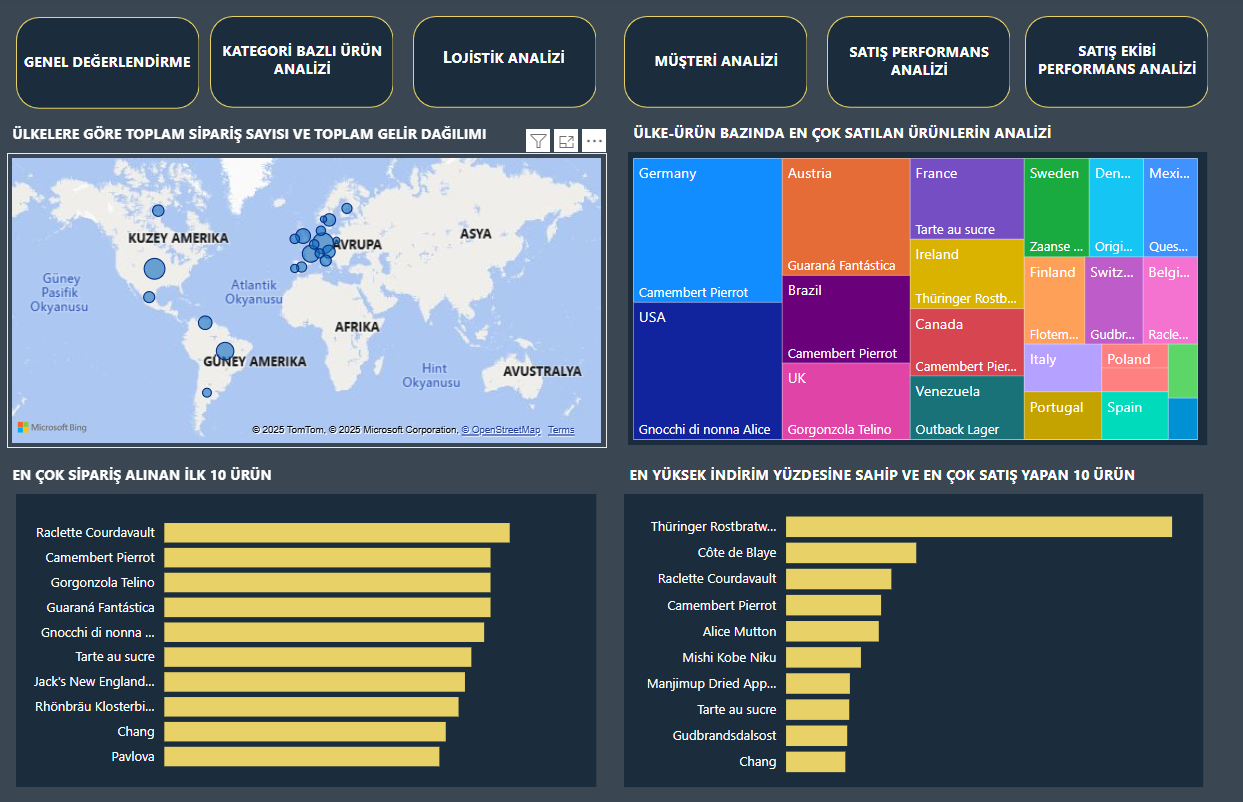

Layout of this report page (visuals, bound fields, positions):
{"tool":"powerbi","page":{"name":"genel bakış","canvas":[1150,750],"ordinal":0},"visuals":[{"type":"shape","box":[384.6,17.1,169.5,84.7],"z":0},{"type":"shape","box":[578.8,17.1,169.5,84.7],"z":1000},{"type":"shape","box":[766.3,17.1,169.5,84.7],"z":2000},{"type":"shape","box":[949.1,17.1,169.5,84.7],"z":3000},{"type":"shape","box":[197.1,17.1,169.5,84.7],"z":4000},{"type":"shape","box":[17.2,459,536,270.5],"z":5000},{"type":"textbox","box":[197.1,35.2,170.4,50.5],"z":6000},{"type":"textbox","box":[383.7,39,169.5,32.4],"z":7000},{"type":"textbox","box":[578.8,44.7,170.4,26.7],"z":8000},{"type":"textbox","box":[766.3,36.2,170.4,49.5],"z":9000},{"type":"textbox","box":[949.1,35.2,170.4,50.5],"z":10000},{"type":"map","fields":{"Category":["Ürün_analizi_6.country"],"Size":["Sum(Ürün_analizi_6.total_orders)"]},"box":[9.1,143.9,554.2,272.6],"z":11000},{"type":"barChart","fields":{"Y":["Sum(ürün_analizi_1.order_count)"],"Category":["ürün_analizi_1.product_name"]},"box":[17.2,464.1,496.5,261.4],"z":12000},{"type":"textbox","box":[9.1,111.5,554.2,32.4],"z":13000},{"type":"textbox","box":[9.1,426.6,554.2,32.4],"z":14000},{"type":"shape","box":[579.1,459,535.3,270.7],"z":15000},{"type":"textbox","box":[579.1,426.4,553.6,32.6],"z":16000},{"type":"barChart","fields":{"Category":["ürün_analizi_3.product_name"],"Y":["Sum(ürün_analizi_3.total_sales_including_discount)"]},"box":[583.1,456.9,531.2,273.8],"z":17000},{"type":"shape","box":[583.1,143.5,535.3,270.7],"z":18000},{"type":"textbox","box":[583.1,110.9,553.6,32.6],"z":19000},{"type":"shape","box":[17.1,18.1,169.5,84.7],"z":20000},{"type":"treemap","fields":{"Group":["ürün_analizi_7.country"],"Details":["ürün_analizi_7.product_name"],"Values":["Sum(ürün_analizi_7.total_quantity)"]},"box":[583.1,144.5,531.2,269.7],"z":21000},{"type":"textbox","box":[18,45.6,168.5,49.5],"z":22000}]}

Visuals, with their boxes in screenshot pixels (x1, y1, x2, y2), scaled from the page's 1150x750 canvas onto the 1243x802 screenshot:
shape: [416,18,599,109]
shape: [626,18,809,109]
shape: [828,18,1011,109]
shape: [1026,18,1209,109]
shape: [213,18,396,109]
shape: [19,491,598,780]
textbox: [213,38,397,92]
textbox: [415,42,598,76]
textbox: [626,48,810,76]
textbox: [828,39,1012,92]
textbox: [1026,38,1210,92]
map - Ürün_analizi_6.country x Sum(Ürün_analizi_6.total_orders): [10,154,609,445]
barChart - Sum(ürün_analizi_1.order_count) x ürün_analizi_1.product_name: [19,496,555,776]
textbox: [10,119,609,154]
textbox: [10,456,609,491]
shape: [626,491,1205,780]
textbox: [626,456,1224,491]
barChart - ürün_analizi_3.product_name x Sum(ürün_analizi_3.total_sales_including_discount): [630,489,1204,781]
shape: [630,153,1209,443]
textbox: [630,119,1229,153]
shape: [18,19,202,110]
treemap - ürün_analizi_7.country x ürün_analizi_7.product_name: [630,155,1204,443]
textbox: [19,49,202,102]
